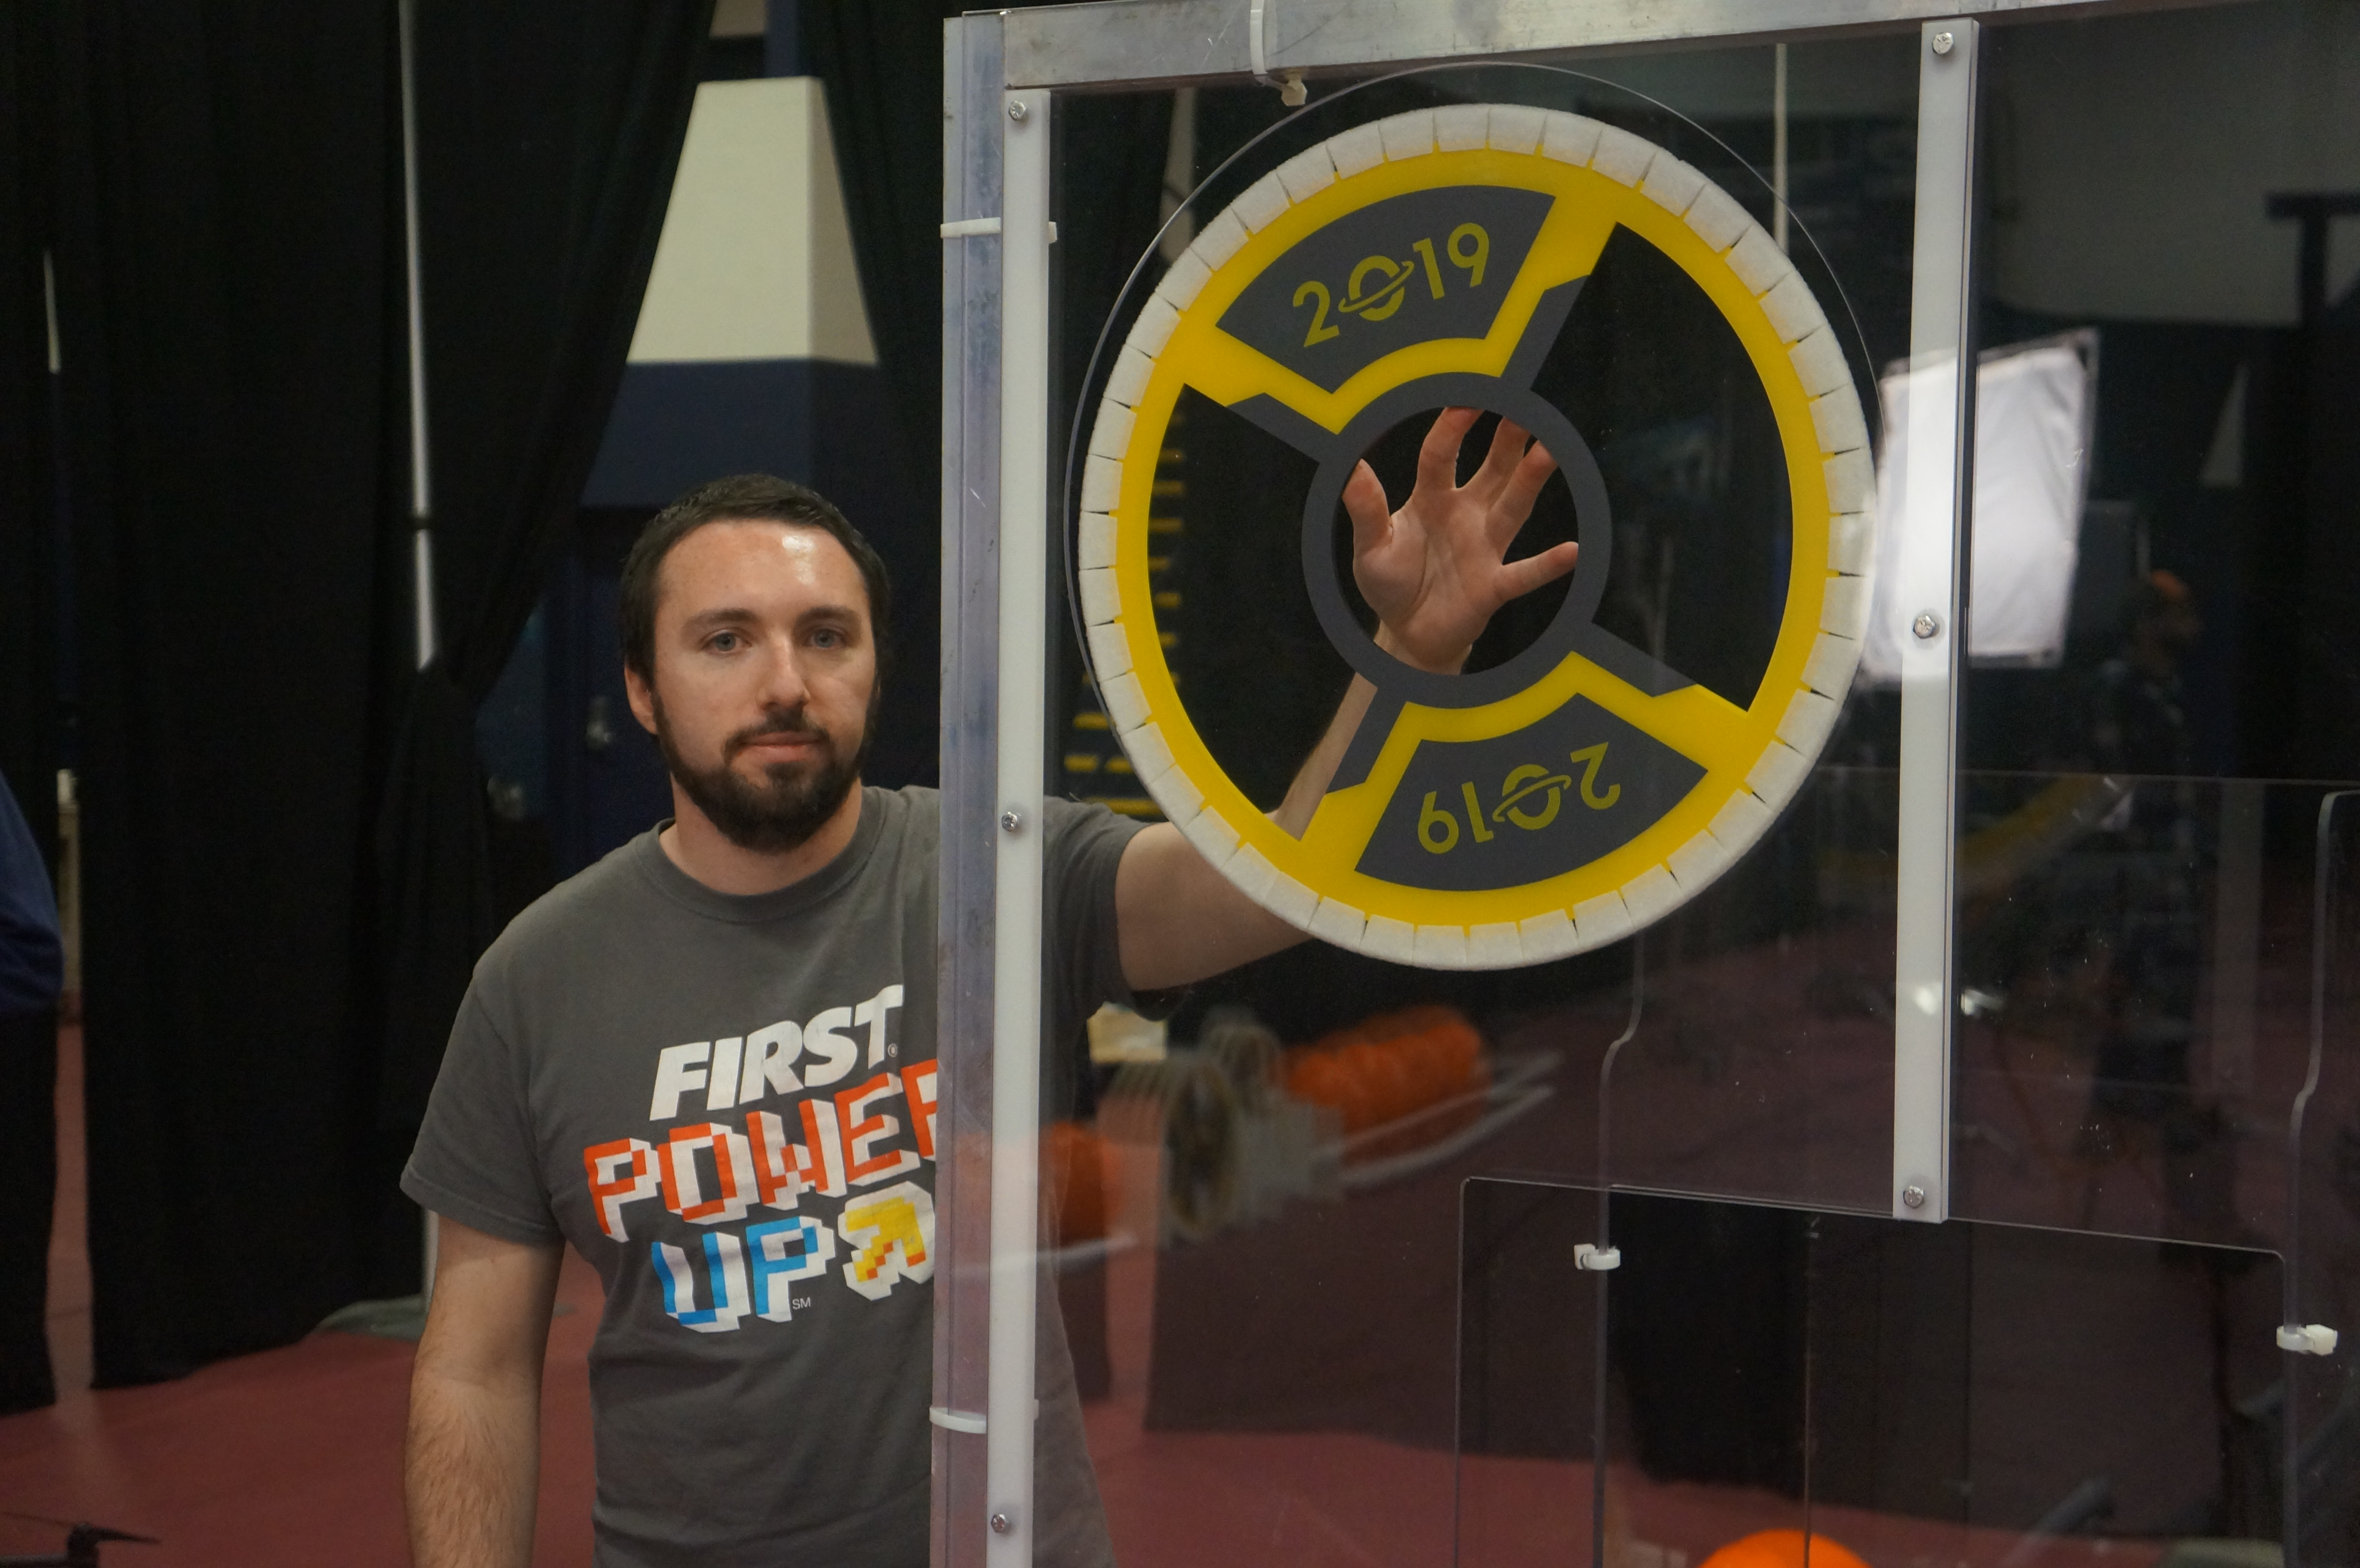Hatch: (1072, 96, 1916, 977)
